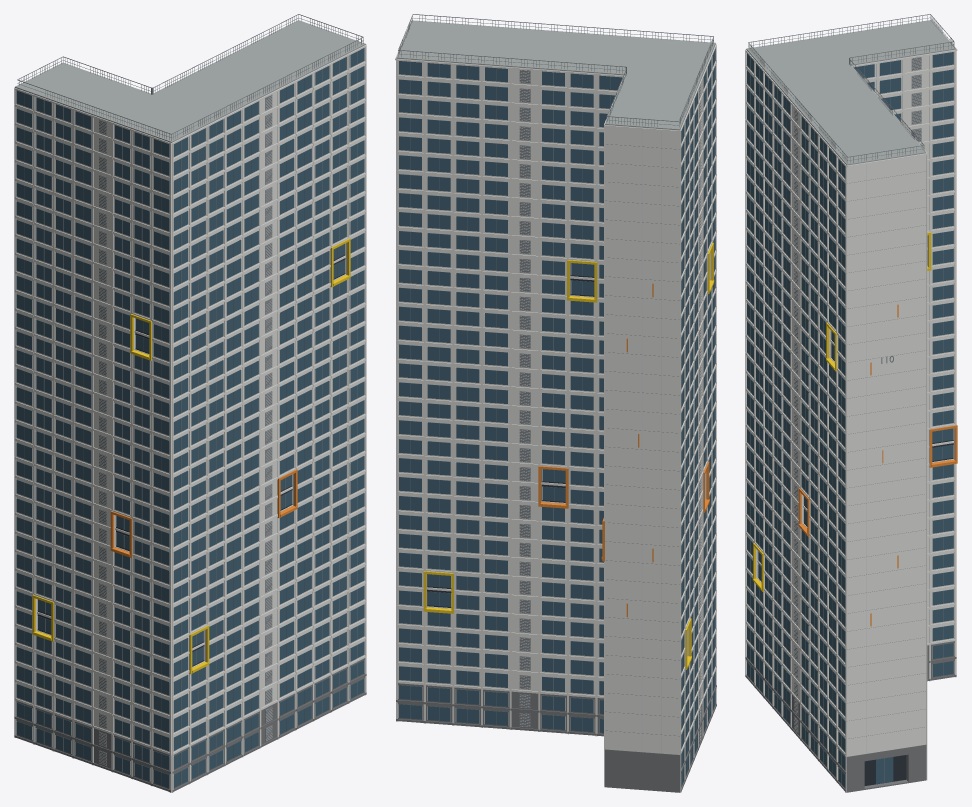
File: bespoke-songpa-helio-city-110.glb
The picture shows the model from 3 angles, left to right: view 1: azimuth 30°, elevation 25°; view 2: azimuth 150°, elevation 25°; view 3: azimuth 270°, elevation 25°; orthographic projection. The views are drawn at different scales.
Parts seen in each view (by area): view 1: Helio110_editable_Helio110_dark_blue_grey_glazing, Helio110_editable_Helio110_white_slab_frames, Helio110_editable_Helio110_grey_service_grille, Helio110_editable_Helio110_low_roof_deck, Helio110_editable_Helio110_dark_grey_twofloor_base, Helio110_editable_Helio110_blankwall_grey_panels, Helio110_editable_Helio110_yellow_projecting_rectangular_fra, Helio110_editable_Helio110_orange_narrow_accent; view 2: Helio110_editable_Helio110_white_slab_frames, Helio110_editable_Helio110_dark_blue_grey_glazing, Helio110_editable_Helio110_grey_service_grille, Helio110_editable_Helio110_low_roof_deck, Helio110_editable_Helio110_dark_grey_twofloor_base, Helio110_editable_Helio110_blankwall_grey_panels, Helio110_editable_Helio110_yellow_projecting_rectangular_fra, Helio110_editable_Helio110_orange_narrow_accent; view 3: Helio110_editable_Helio110_white_slab_frames, Helio110_editable_Helio110_dark_blue_grey_glazing, Helio110_editable_Helio110_low_roof_deck, Helio110_editable_Helio110_grey_service_grille, Helio110_editable_Helio110_dark_grey_twofloor_base, Helio110_editable_Helio110_blankwall_grey_panels, Helio110_editable_Helio110_orange_narrow_accent, Helio110_editable_Helio110_deep_shaded_frame_recess, Helio110_editable_Helio110_yellow_projecting_rectangular_fra.
Part boxes in pixels (x1,y1,x2,y2): Helio110_editable_Helio110_dark_blue_grey_glazing: (16, 48, 364, 788); Helio110_editable_Helio110_white_slab_frames: (14, 44, 366, 792); Helio110_editable_Helio110_grey_service_grille: (17, 14, 363, 785); Helio110_editable_Helio110_low_roof_deck: (15, 20, 365, 142); Helio110_editable_Helio110_dark_grey_twofloor_base: (14, 658, 366, 792); Helio110_editable_Helio110_blankwall_grey_panels: (99, 94, 272, 765); Helio110_editable_Helio110_yellow_projecting_rectangular_fra: (32, 238, 350, 674); Helio110_editable_Helio110_orange_narrow_accent: (110, 469, 297, 557); Helio110_editable_Helio110_white_slab_frames: (395, 21, 716, 792); Helio110_editable_Helio110_dark_blue_grey_glazing: (399, 49, 715, 786); Helio110_editable_Helio110_grey_service_grille: (398, 14, 714, 783); Helio110_editable_Helio110_low_roof_deck: (396, 20, 715, 130); Helio110_editable_Helio110_dark_grey_twofloor_base: (396, 683, 716, 792); Helio110_editable_Helio110_blankwall_grey_panels: (520, 70, 701, 753); Helio110_editable_Helio110_yellow_projecting_rectangular_fra: (423, 242, 714, 669); Helio110_editable_Helio110_orange_narrow_accent: (538, 283, 709, 617); Helio110_editable_Helio110_white_slab_frames: (745, 24, 957, 792); Helio110_editable_Helio110_dark_blue_grey_glazing: (747, 52, 953, 787); Helio110_editable_Helio110_low_roof_deck: (746, 20, 956, 165); Helio110_editable_Helio110_grey_service_grille: (748, 14, 954, 783); Helio110_editable_Helio110_dark_grey_twofloor_base: (745, 641, 956, 792); Helio110_editable_Helio110_blankwall_grey_panels: (794, 57, 921, 753); Helio110_editable_Helio110_orange_narrow_accent: (798, 304, 957, 626); Helio110_editable_Helio110_deep_shaded_frame_recess: (758, 339, 953, 785); Helio110_editable_Helio110_yellow_projecting_rectangular_fra: (752, 232, 931, 591).
Bounding box in the file's own units: 48.75 × 99.2 × 30.06.
